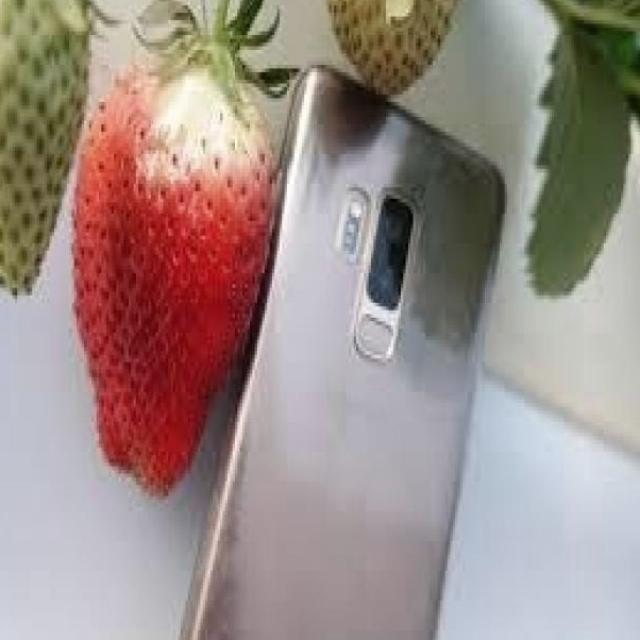Healthy Fruit: (74, 56, 271, 482)
